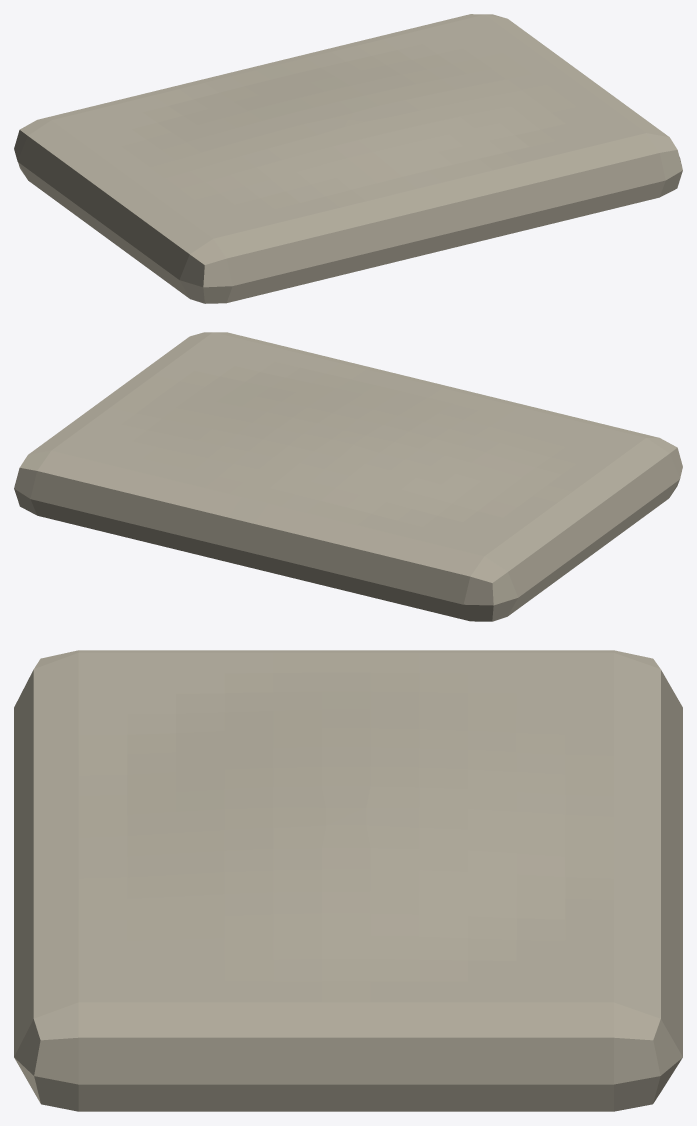
The model's file is HIN-THR-std.glb.
3 views of the same model, one above another, from view 1: azimuth 30°, elevation 25°; view 2: azimuth 150°, elevation 25°; view 3: azimuth 270°, elevation 25° (orthographic). The views are drawn at different scales.
Parts seen in each view (by area): view 1: throw:pbr; view 2: throw:pbr; view 3: throw:pbr.
Part boxes in pixels (x1=…): throw:pbr: x1=14, y1=14, x2=682, y2=303; throw:pbr: x1=14, y1=332, x2=682, y2=621; throw:pbr: x1=14, y1=650, x2=682, y2=1111.
Size of the model in its own units: 0.4983 by 0.0729 by 0.3486.
